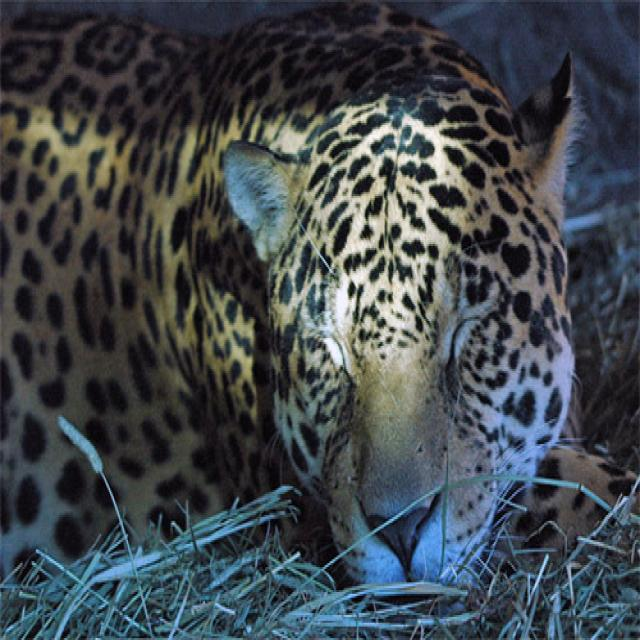Leopard: (0, 0, 637, 615)
